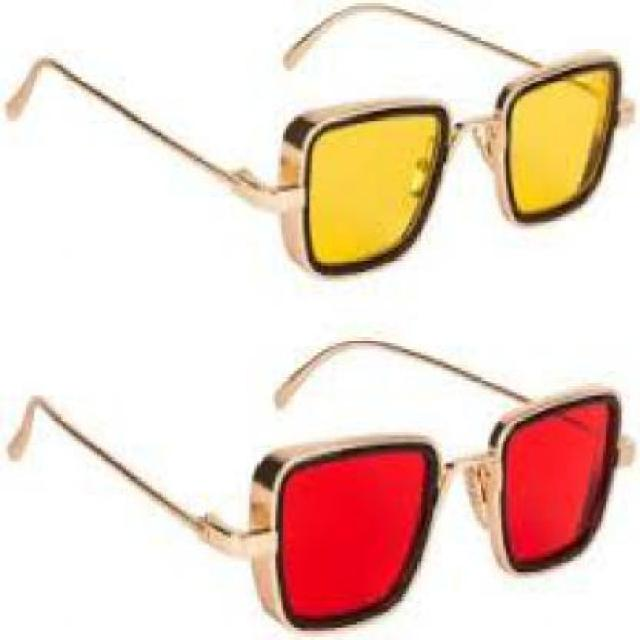gozluk: (257, 40, 621, 288)
